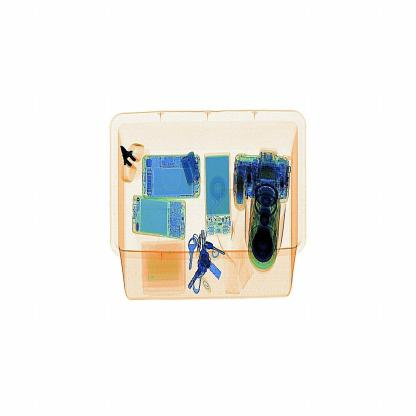gun: (112, 133, 148, 187)
